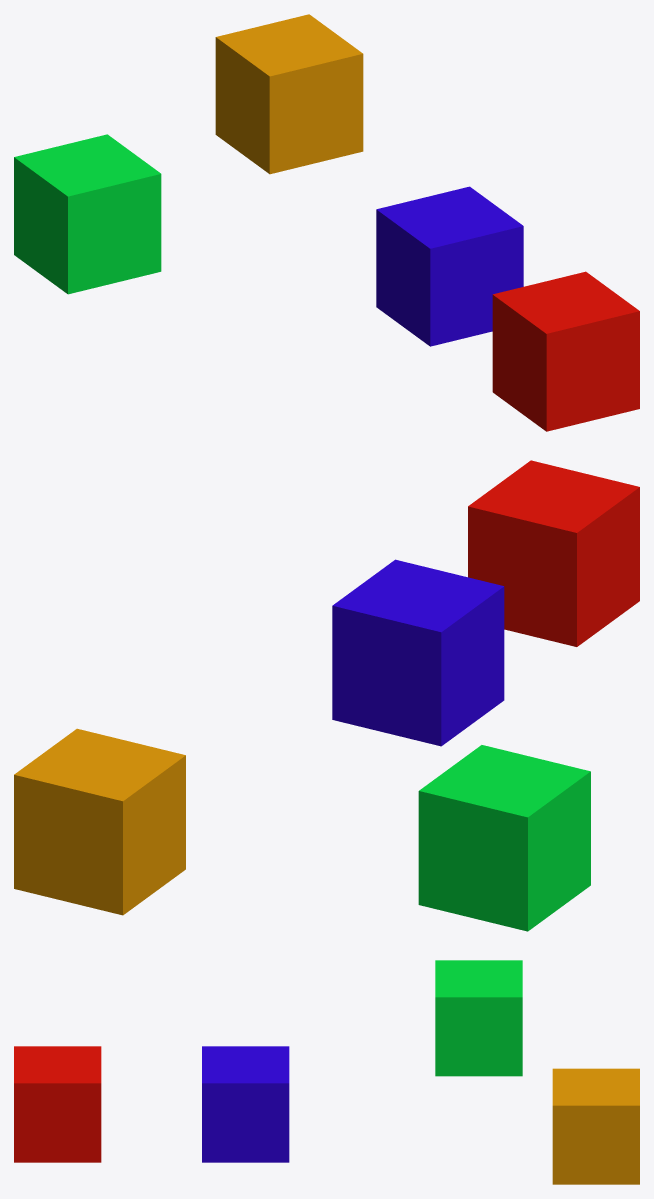
File: NavigationTest.glb
3 views of the same model, one above another, from view 1: azimuth 30°, elevation 25°; view 2: azimuth 150°, elevation 25°; view 3: azimuth 270°, elevation 25° (orthographic). The views are drawn at different scales.
Visible parts, largest first — view 1: Cube.002, Cube.001, Red, Cube; view 2: Cube.001, Cube, Cube.002, Red; view 3: Cube, Cube.001, Red, Cube.002.
Part boxes in pixels (bbox=[...]): Cube.002: bbox=[215, 14, 363, 174]; Cube.001: bbox=[14, 134, 161, 294]; Red: bbox=[492, 271, 639, 431]; Cube: bbox=[376, 186, 523, 346]; Cube.001: bbox=[418, 745, 590, 931]; Cube: bbox=[332, 559, 504, 746]; Cube.002: bbox=[14, 728, 185, 915]; Red: bbox=[468, 460, 639, 646]; Cube: bbox=[202, 1046, 289, 1162]; Cube.001: bbox=[435, 960, 522, 1076]; Red: bbox=[14, 1046, 101, 1162]; Cube.002: bbox=[552, 1068, 639, 1184].
Bounding box in the file's own units: 7.87 × 2 × 14.33.
